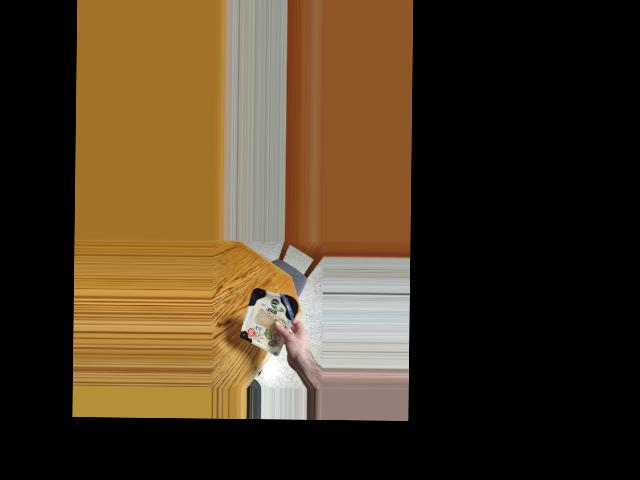cheese: (241, 286, 300, 345)
